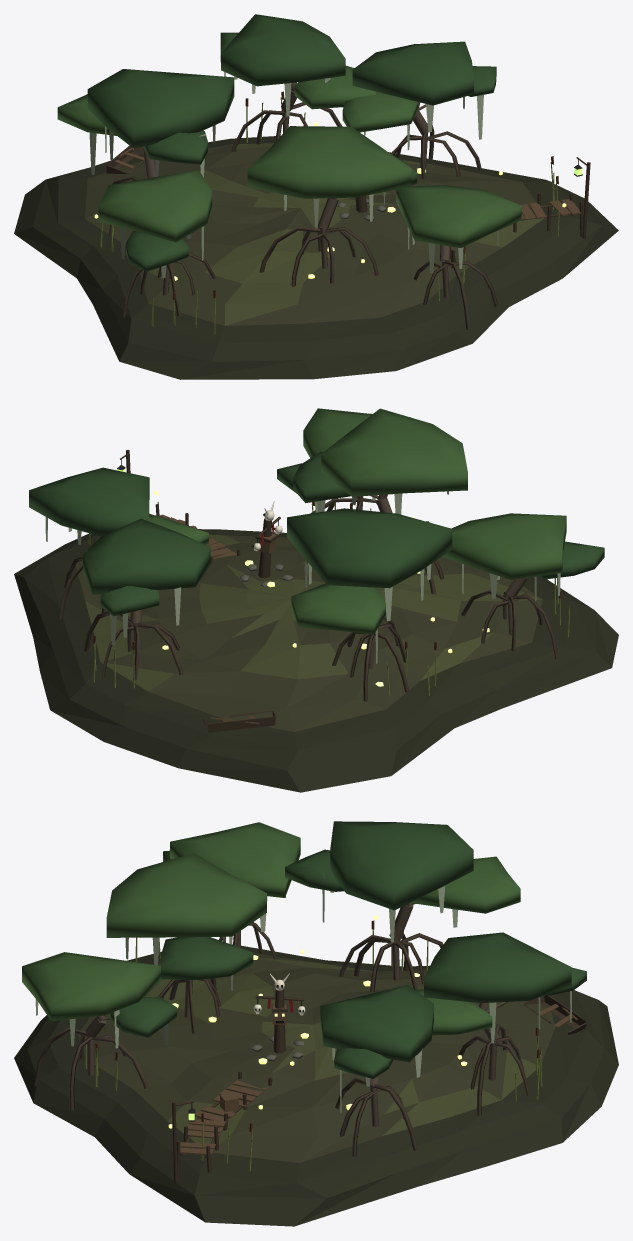
File: mangrove-islet.glb
3 renders of one model, top to bottom at view 1: azimuth 30°, elevation 25°; view 2: azimuth 150°, elevation 25°; view 3: azimuth 270°, elevation 25°, orthographic. The views are drawn at different scales.
Parts seen in each view (by area): view 1: Mesh_MoundWet, Mesh_Mound, Mesh_MoundMoss, Mesh_Tree1Canopy0, Mesh_Tree0Canopy0, Mesh_Tree2Canopy0, Mesh_Tree3Canopy0, Mesh_Tree4Canopy0, Mesh_Tree5Canopy0, Mesh_Tree4Canopy1, Mesh_Tree2Canopy1, Mesh_Tree3Canopy1 (+3 smaller); view 2: Mesh_MoundWet, Mesh_Mound, Mesh_MoundMoss, Mesh_Tree0Canopy0, Mesh_Tree1Canopy0, Mesh_Tree2Canopy0, Mesh_Tree3Canopy0, Mesh_Tree4Canopy0, Mesh_Tree0Canopy1, Mesh_Tree5Canopy0, Mesh_Tree1Canopy1, Mesh_Tree2Canopy2 (+3 smaller); view 3: Mesh_MoundWet, Mesh_Mound, Mesh_Tree1Canopy0, Mesh_Tree0Canopy0, Mesh_MoundMoss, Mesh_Tree2Canopy0, Mesh_Tree5Canopy0, Mesh_Tree4Canopy0, Mesh_Tree3Canopy0, Mesh_Tree0Canopy1, Mesh_Tree1Canopy1, Mesh_Tree2Canopy1 (+3 smaller).
Part boxes in pixels (x1,y1,x2,y2): Mesh_MoundWet: (14, 135, 618, 379); Mesh_Mound: (85, 144, 536, 325); Mesh_MoundMoss: (149, 143, 543, 325); Mesh_Tree1Canopy0: (247, 126, 411, 198); Mesh_Tree0Canopy0: (87, 69, 234, 148); Mesh_Tree2Canopy0: (221, 14, 345, 86); Mesh_Tree3Canopy0: (98, 170, 212, 242); Mesh_Tree4Canopy0: (352, 41, 473, 105); Mesh_Tree5Canopy0: (396, 185, 521, 248); Mesh_Tree4Canopy1: (342, 91, 417, 132); Mesh_Tree2Canopy1: (294, 65, 375, 109); Mesh_Tree3Canopy1: (126, 231, 188, 271); Mesh_MoundWet: (14, 529, 618, 792); Mesh_Mound: (75, 535, 542, 731); Mesh_MoundMoss: (85, 534, 542, 691); Mesh_Tree0Canopy0: (287, 508, 452, 588); Mesh_Tree1Canopy0: (321, 408, 467, 496); Mesh_Tree2Canopy0: (83, 518, 210, 594); Mesh_Tree3Canopy0: (442, 513, 566, 579); Mesh_Tree4Canopy0: (29, 467, 149, 535); Mesh_Tree0Canopy1: (291, 583, 385, 634); Mesh_Tree5Canopy0: (303, 408, 409, 457); Mesh_Tree1Canopy1: (293, 451, 350, 503); Mesh_Tree2Canopy2: (100, 586, 159, 616); Mesh_MoundWet: (14, 944, 618, 1226); Mesh_Mound: (78, 953, 555, 1162); Mesh_Tree1Canopy0: (106, 853, 266, 937); Mesh_Tree0Canopy0: (330, 821, 473, 910); Mesh_MoundMoss: (144, 957, 538, 1149); Mesh_Tree2Canopy0: (424, 932, 571, 1002); Mesh_Tree5Canopy0: (22, 952, 160, 1021); Mesh_Tree4Canopy0: (320, 985, 433, 1062); Mesh_Tree3Canopy0: (170, 822, 300, 897); Mesh_Tree0Canopy1: (410, 856, 520, 913); Mesh_Tree1Canopy1: (161, 937, 253, 979); Mesh_Tree2Canopy1: (414, 989, 492, 1035).
Size of the model in its own units: 30.88 by 10.55 by 28.88.
